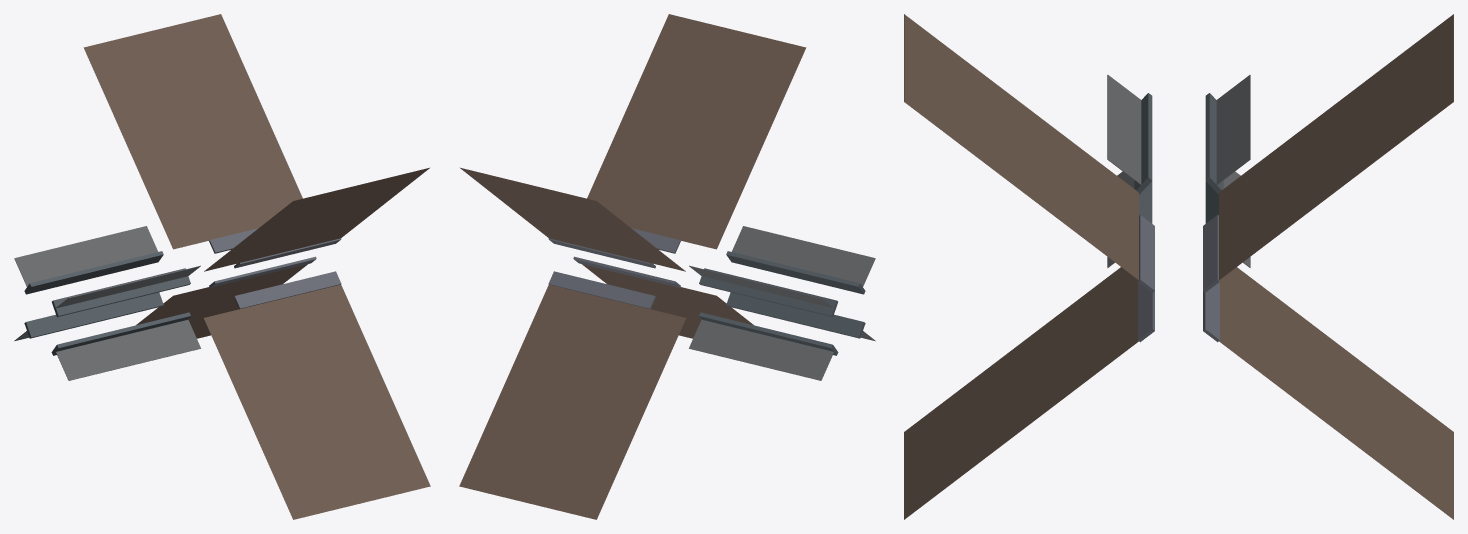
File: wayfarer_radiators_step1_88ce19fc_torch.glb
3 renders of one model, left to right at view 1: azimuth 30°, elevation 25°; view 2: azimuth 150°, elevation 25°; view 3: azimuth 270°, elevation 25°, orthographic. The views are drawn at different scales.
Visible parts, largest first — view 1: dry:hotfin_40:pleat_08, dry:hotfin_220:pleat_12, dry:hotfin_220:pleat_13, dry:hotfin_40:pleat_06, dry:hotfin_40:pleat_10, dry:hotfin_220:pleat_05, dry:hotfin_40:pleat_07, dry:hotfin_220:pleat_03, dry:hotfin_220:pleat_07, dry:hotfin_40:pleat_02, dry:hotfin_40:pleat_09, dry:hotfin_40:pleat_11 (+47 smaller); view 2: dry:hotfin_140:pleat_08, dry:hotfin_320:pleat_12, dry:hotfin_320:pleat_13, dry:hotfin_140:pleat_06, dry:hotfin_140:pleat_10, dry:hotfin_320:pleat_05, dry:hotfin_140:pleat_07, dry:hotfin_320:pleat_03, dry:hotfin_320:pleat_07, dry:hotfin_140:pleat_02, dry:hotfin_140:pleat_09, dry:hotfin_140:pleat_11 (+47 smaller); view 3: dry:hotfin_40:pleat_02, dry:hotfin_40:pleat_05, dry:hotfin_140:pleat_02, dry:hotfin_140:pleat_05, dry:hotfin_220:pleat_02, dry:hotfin_220:pleat_05, dry:hotfin_320:pleat_02, dry:hotfin_320:pleat_05, dry:hotfin_40:pleat_01, dry:hotfin_40:pleat_06, dry:hotfin_40:pleat_10, dry:hotfin_140:pleat_01 (+54 smaller).
Boxes of the visible parts, x1,y1,x2,y2 form: dry:hotfin_40:pleat_08: (116, 86, 259, 133); dry:hotfin_220:pleat_12: (280, 457, 424, 505); dry:hotfin_220:pleat_13: (287, 472, 430, 519); dry:hotfin_40:pleat_06: (128, 115, 271, 162); dry:hotfin_40:pleat_10: (103, 57, 246, 105); dry:hotfin_220:pleat_05: (235, 356, 379, 404); dry:hotfin_40:pleat_07: (122, 100, 265, 148); dry:hotfin_220:pleat_03: (223, 328, 366, 375); dry:hotfin_220:pleat_07: (248, 385, 392, 433); dry:hotfin_40:pleat_02: (154, 172, 297, 220); dry:hotfin_40:pleat_09: (109, 72, 252, 119); dry:hotfin_40:pleat_11: (96, 43, 239, 90); dry:hotfin_140:pleat_08: (630, 86, 773, 133); dry:hotfin_320:pleat_12: (465, 457, 609, 505); dry:hotfin_320:pleat_13: (459, 472, 602, 519); dry:hotfin_140:pleat_06: (618, 115, 761, 162); dry:hotfin_140:pleat_10: (643, 57, 786, 105); dry:hotfin_320:pleat_05: (510, 356, 654, 404); dry:hotfin_140:pleat_07: (624, 100, 767, 148); dry:hotfin_320:pleat_03: (523, 328, 666, 375); dry:hotfin_320:pleat_07: (497, 385, 641, 433); dry:hotfin_140:pleat_02: (592, 172, 735, 220); dry:hotfin_140:pleat_09: (637, 72, 780, 119); dry:hotfin_140:pleat_11: (650, 43, 793, 90); dry:hotfin_40:pleat_02: (1252, 154, 1269, 254); dry:hotfin_40:pleat_05: (1302, 116, 1319, 216); dry:hotfin_140:pleat_02: (1088, 154, 1105, 254); dry:hotfin_140:pleat_05: (1038, 116, 1055, 216); dry:hotfin_220:pleat_02: (1088, 279, 1105, 379); dry:hotfin_220:pleat_05: (1038, 317, 1055, 417); dry:hotfin_320:pleat_02: (1252, 279, 1269, 379); dry:hotfin_320:pleat_05: (1302, 317, 1319, 417); dry:hotfin_40:pleat_01: (1235, 167, 1252, 267); dry:hotfin_40:pleat_06: (1319, 103, 1336, 203); dry:hotfin_40:pleat_10: (1386, 53, 1403, 152); dry:hotfin_140:pleat_01: (1105, 167, 1122, 267).
Bounding box in the file's own units: 39.3 × 42.11 × 50.18.
